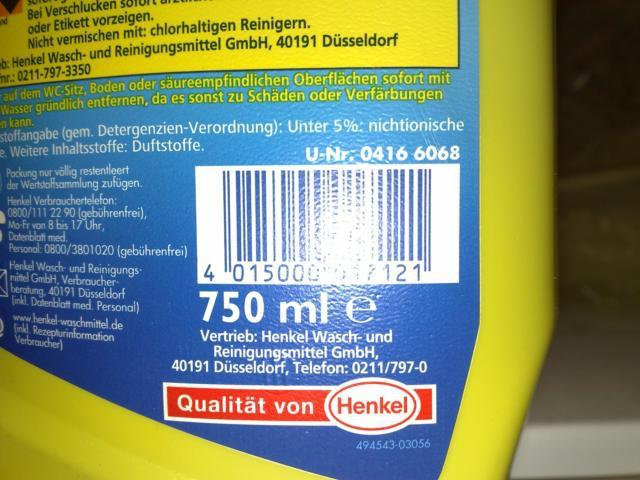Barcode: (195, 163, 460, 283)
